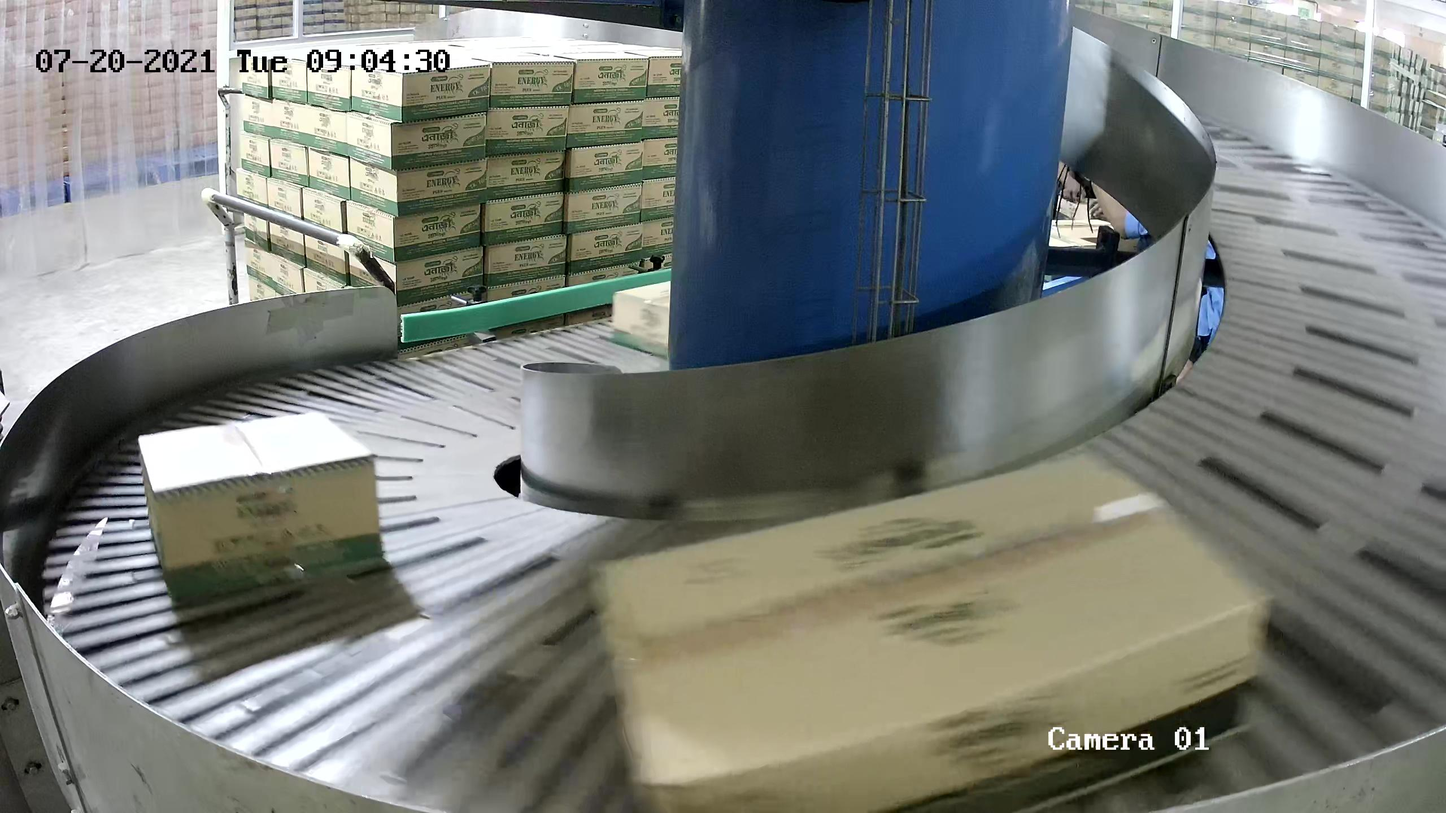Box: (593, 451, 1267, 813), (138, 407, 388, 609)
